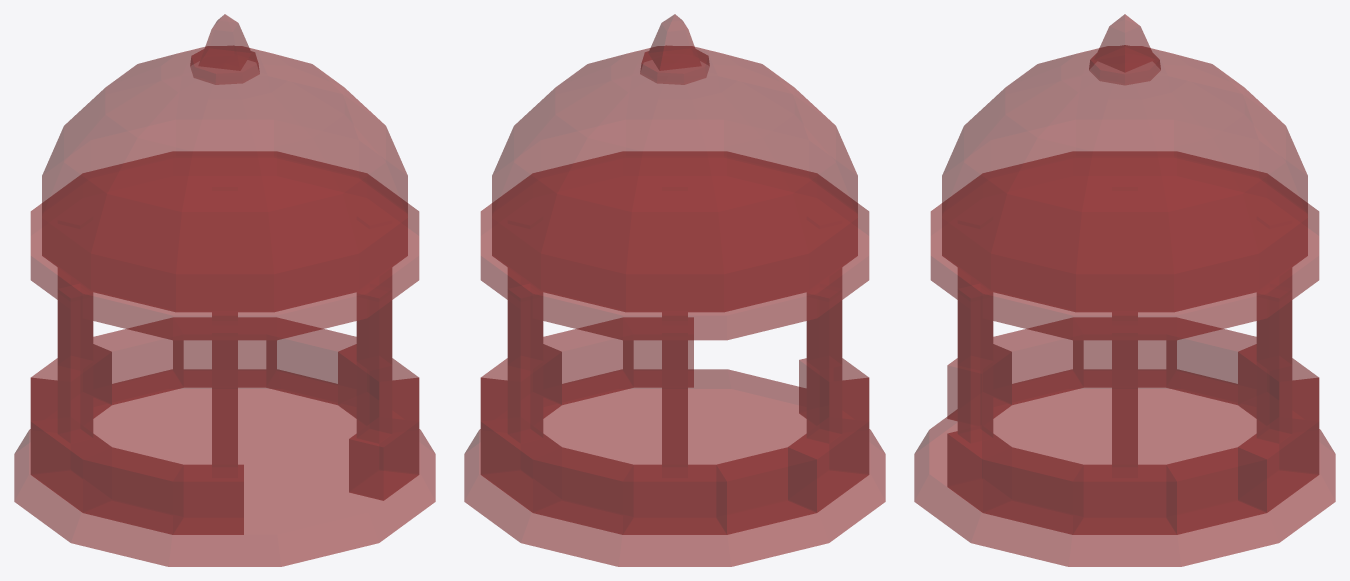
File: SM_Prop_Pergola_01_Collision.fbx
The picture shows the model from 3 angles, left to right: view 1: azimuth 30°, elevation 25°; view 2: azimuth 150°, elevation 25°; view 3: azimuth 270°, elevation 25°; orthographic projection.
Visible parts, largest first — view 1: SM_Prop_Pergola_01_Collision; view 2: SM_Prop_Pergola_01_Collision; view 3: SM_Prop_Pergola_01_Collision.
Boxes of the visible parts, box(x1,y1,x2,y2) form: SM_Prop_Pergola_01_Collision: box(14, 14, 435, 566); SM_Prop_Pergola_01_Collision: box(464, 14, 885, 566); SM_Prop_Pergola_01_Collision: box(914, 14, 1335, 566).
Bounding box in the file's own units: 525 × 638 × 525.
